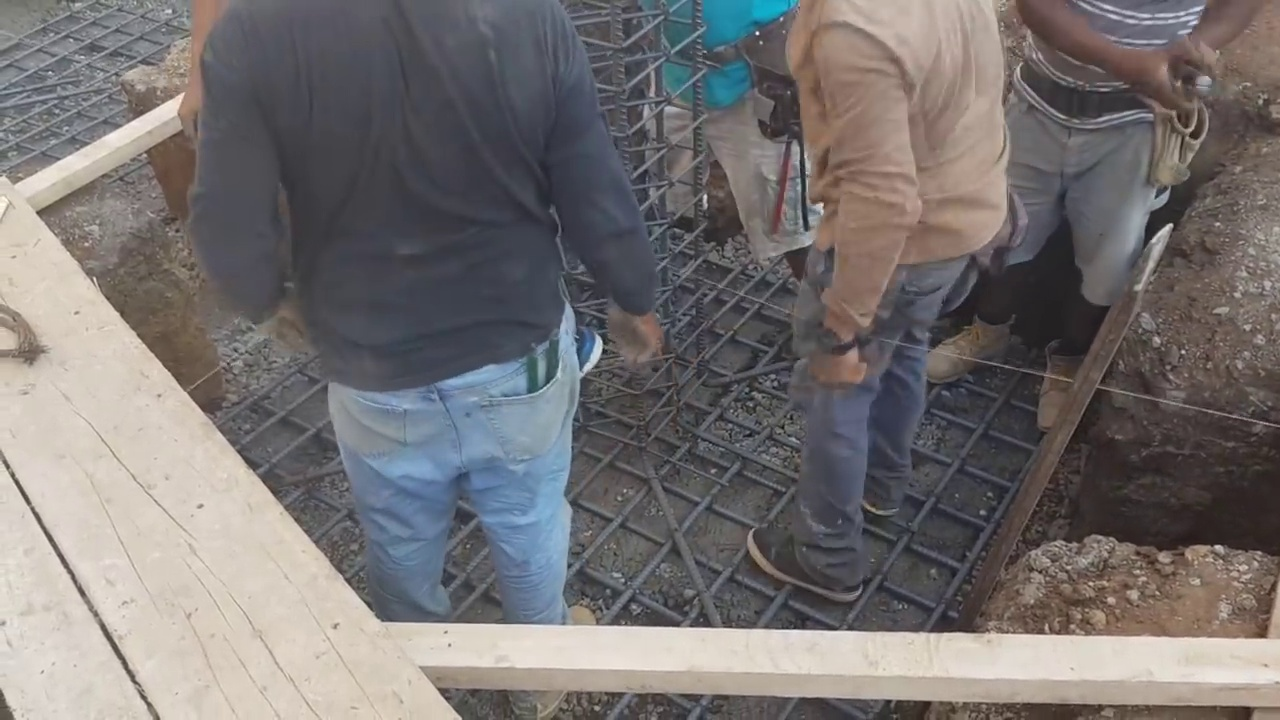person: (168, 0, 671, 660), (755, 0, 1012, 578), (950, 0, 1244, 454), (650, 0, 785, 247)
